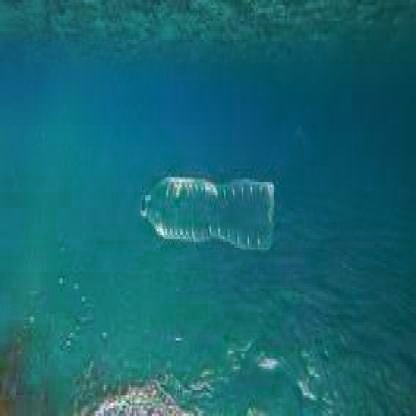pbottle: (138, 164, 275, 262)
